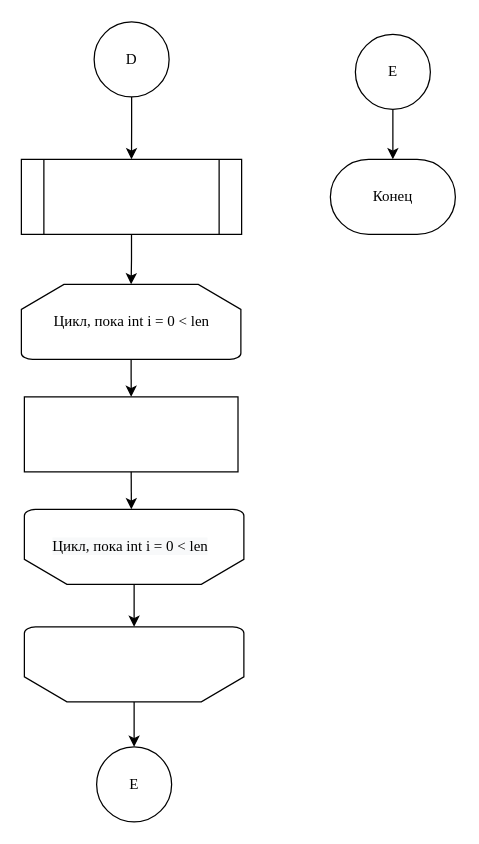
Some shapes in this 479 by 844 pixel diagram are drawn without their labels. The centre of each missing label's shape, as x and y in pixels:
buffer += bytes[i]; i++;: [130,434]
len = elem.valuesize() - 5; bytes = getBsonElementValue(t, elem);: [131,196]
Цикл, пока iter.more(): [133,664]
